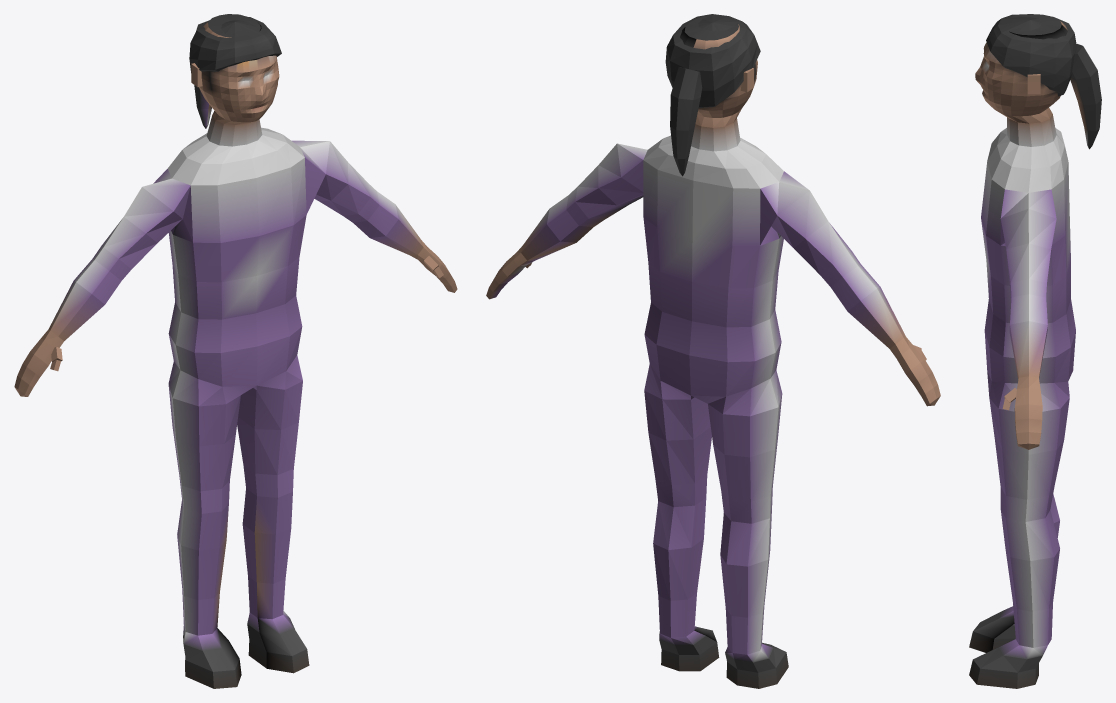
File: char__pessoa__piloto_h08.glb
3 views of the same model, side by side, from view 1: azimuth 30°, elevation 25°; view 2: azimuth 150°, elevation 25°; view 3: azimuth 270°, elevation 25° (orthographic). The views are drawn at different scales.
Parts seen in each view (by area): view 1: char__pessoa__piloto_h08; view 2: char__pessoa__piloto_h08; view 3: char__pessoa__piloto_h08.
Part boxes in pixels (x1,y1,x2,y2): char__pessoa__piloto_h08: (14,14,457,688); char__pessoa__piloto_h08: (486,14,940,688); char__pessoa__piloto_h08: (969,14,1101,688).
Bounding box in the file's own units: 1.26 × 1.77 × 0.3299.
